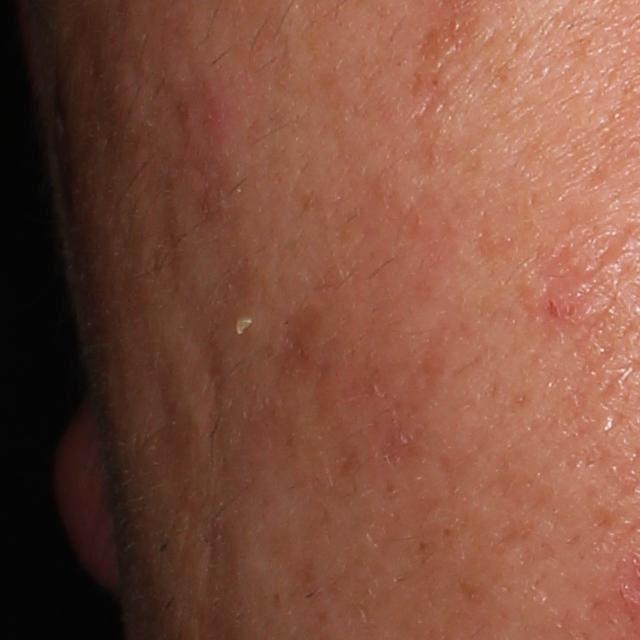atrophic_scar: (129, 93, 194, 286), (172, 320, 248, 478), (164, 477, 248, 608)
